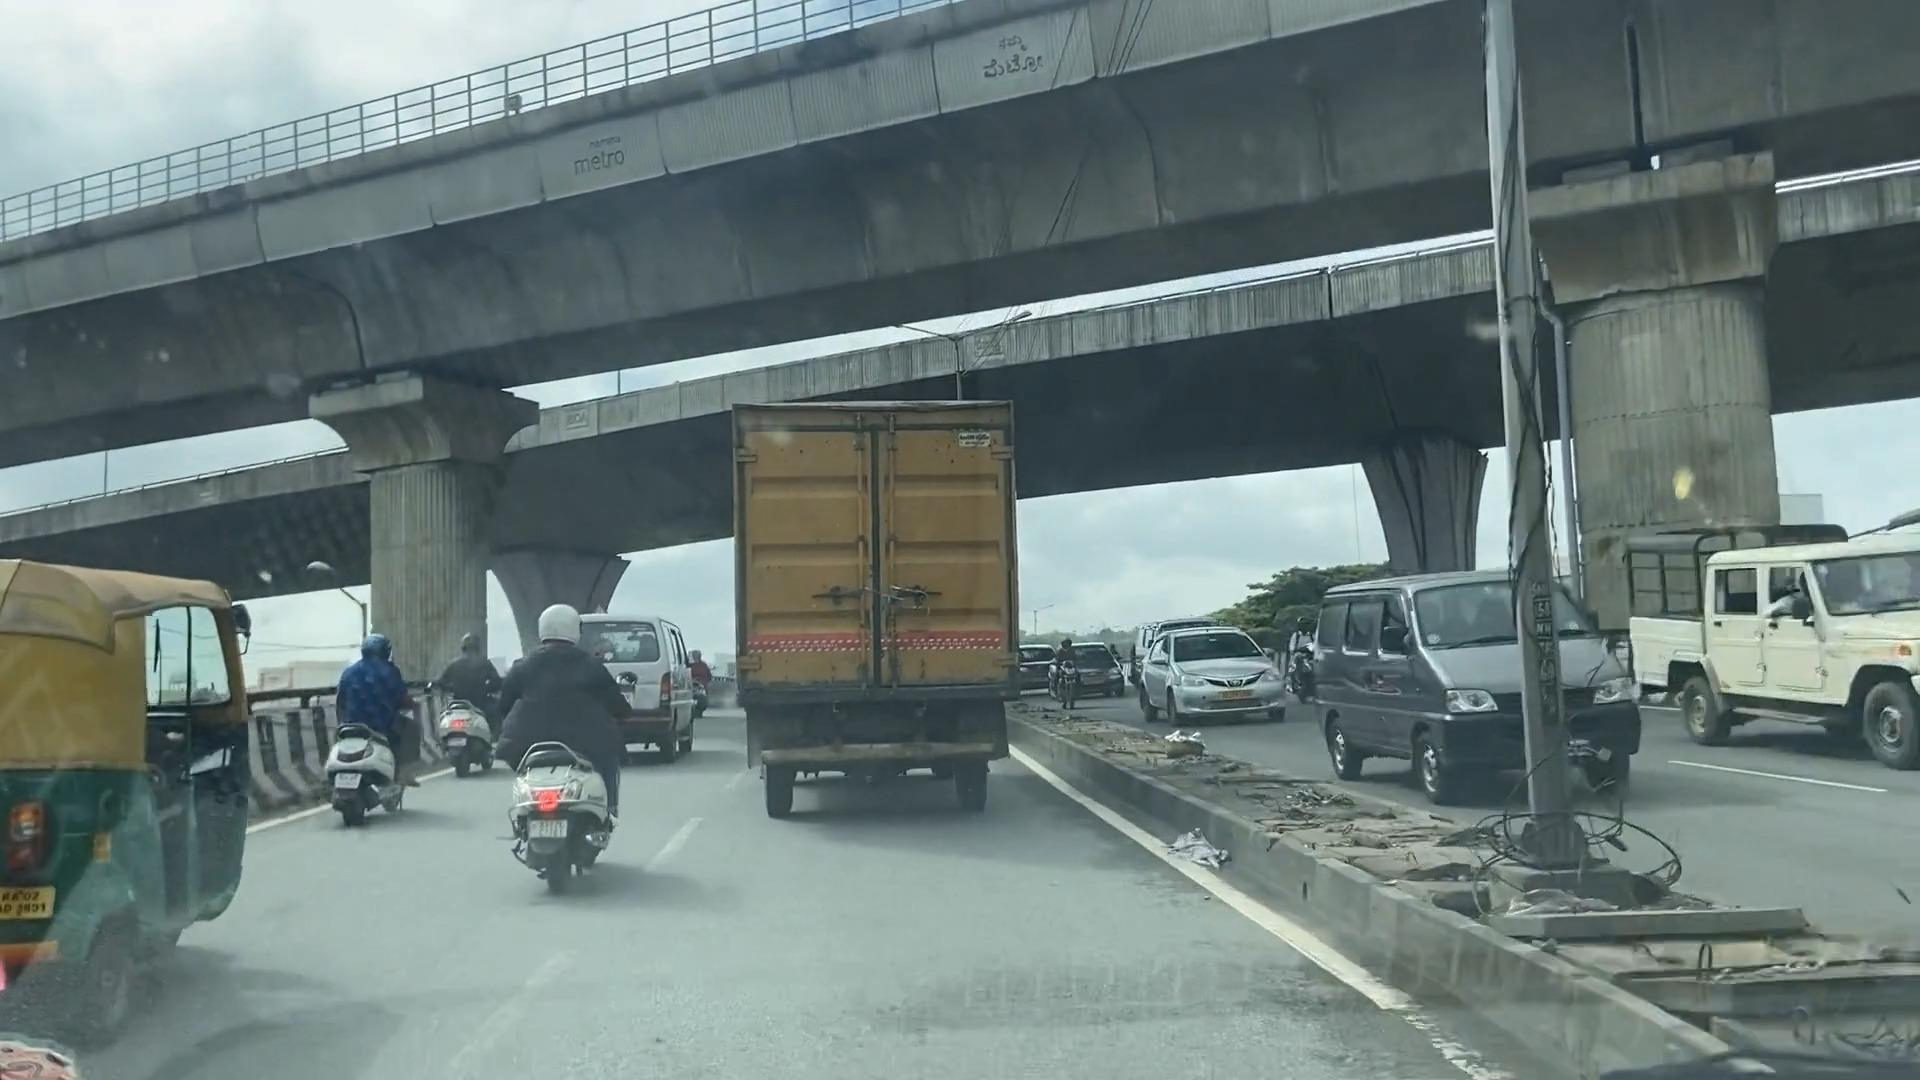HMV: (724, 406, 1019, 832)
LMV: (493, 596, 629, 910), (340, 633, 423, 837)
